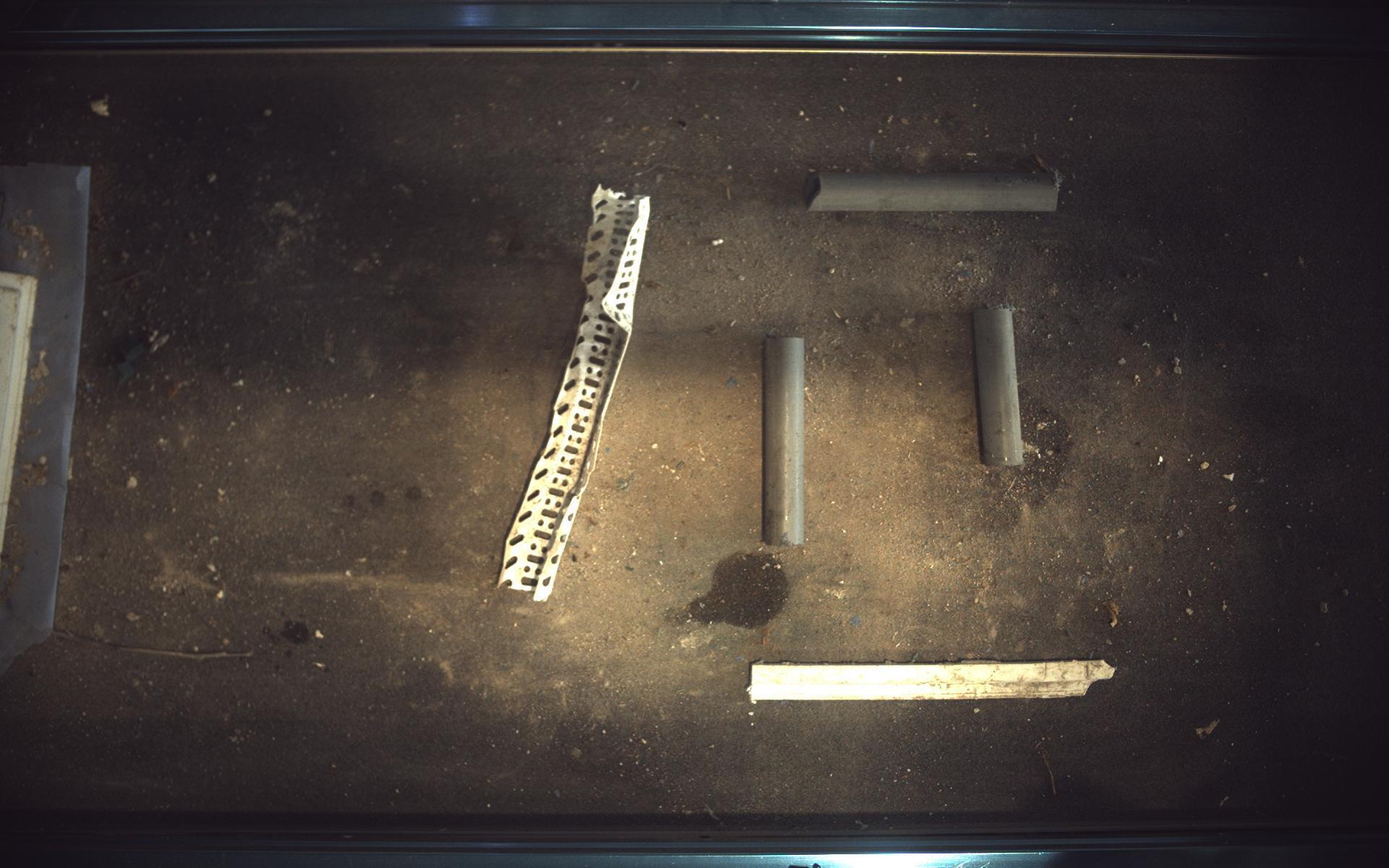pipes: (807, 170, 1063, 211), (763, 335, 807, 547), (975, 307, 1026, 466)
plastic: (498, 184, 650, 603), (749, 661, 1118, 704)
